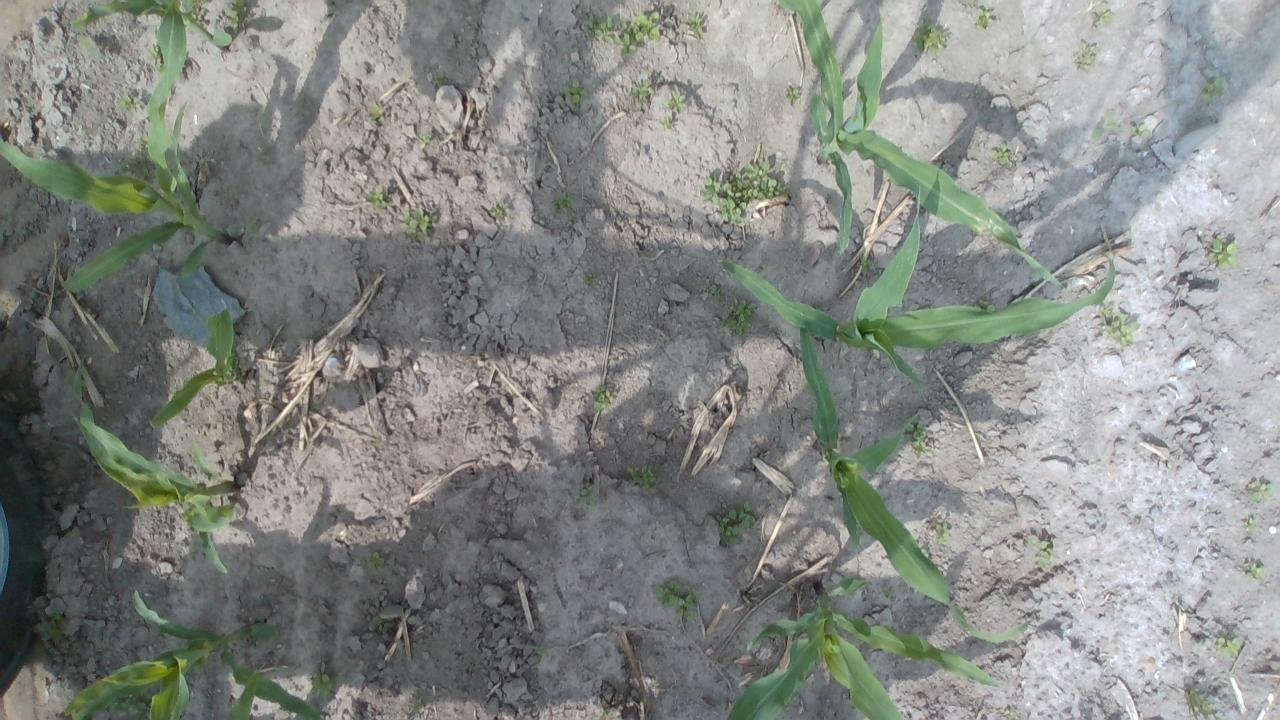Maize: (776, 0, 1070, 290), (719, 181, 1122, 380), (789, 323, 1031, 643), (0, 96, 230, 288), (731, 579, 1002, 720), (72, 356, 234, 574), (66, 590, 323, 720), (68, 0, 235, 171), (153, 311, 239, 426), (215, 666, 272, 720)
Weeds: (700, 158, 787, 225), (650, 578, 707, 620), (614, 9, 662, 56), (116, 135, 156, 181), (1096, 303, 1138, 346), (718, 500, 755, 546), (718, 297, 758, 337), (910, 20, 950, 56), (904, 414, 934, 458), (1184, 686, 1218, 720), (404, 206, 436, 241), (312, 662, 340, 702), (1090, 108, 1120, 144), (1071, 38, 1100, 74), (1208, 234, 1238, 268), (586, 13, 614, 43), (629, 77, 653, 110), (626, 464, 656, 490), (1086, 0, 1116, 26), (563, 76, 588, 107), (1030, 535, 1054, 566), (226, 0, 247, 33), (1248, 480, 1276, 504), (592, 384, 616, 411), (1201, 77, 1225, 104), (552, 194, 576, 220), (1214, 635, 1243, 656), (662, 89, 686, 114), (971, 7, 996, 31), (989, 142, 1012, 167), (118, 93, 143, 114), (366, 184, 387, 209), (575, 486, 597, 508), (78, 36, 100, 58), (684, 12, 704, 36), (1243, 562, 1267, 580), (364, 552, 385, 572), (488, 200, 510, 219), (934, 521, 951, 545), (1128, 122, 1150, 139), (370, 100, 386, 122), (856, 256, 874, 275), (582, 270, 600, 288), (533, 644, 549, 664), (972, 298, 994, 312), (784, 86, 802, 103), (191, 8, 205, 26), (659, 114, 674, 130), (64, 368, 77, 386), (419, 132, 432, 150), (998, 707, 1016, 720), (1242, 517, 1258, 531), (245, 218, 261, 232), (710, 286, 724, 302), (432, 72, 447, 86), (410, 698, 422, 714), (148, 44, 160, 60), (599, 707, 613, 720), (880, 588, 894, 600), (920, 546, 930, 558), (154, 61, 164, 72)
